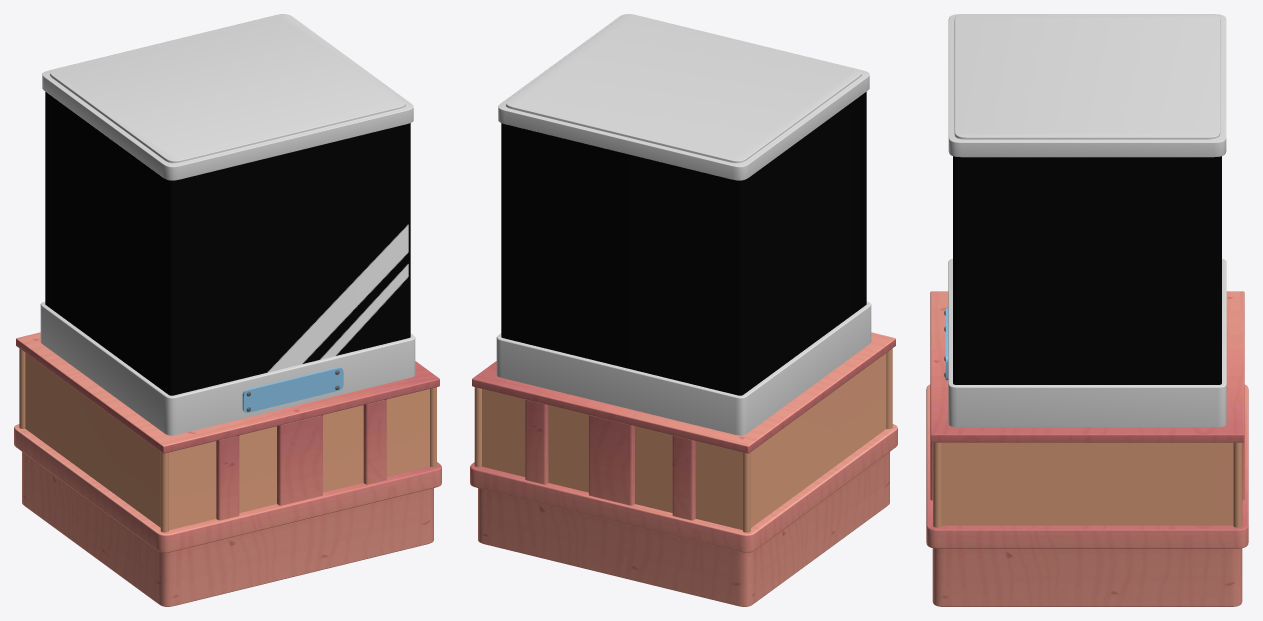
The model's file is DisplayCase.fbx.
The picture shows the model from 3 angles, left to right: view 1: azimuth 30°, elevation 25°; view 2: azimuth 150°, elevation 25°; view 3: azimuth 270°, elevation 25°; orthographic projection. The views are drawn at different scales.
Parts seen in each view (by area): view 1: DisplayCase; view 2: DisplayCase; view 3: DisplayCase.
Boxes of the visible parts, x1,y1,x2,y2 form: DisplayCase: (14, 14, 441, 606); DisplayCase: (470, 14, 897, 606); DisplayCase: (926, 14, 1248, 606).
Bounding box in the file's own units: 85.3 × 125 × 79.08.
